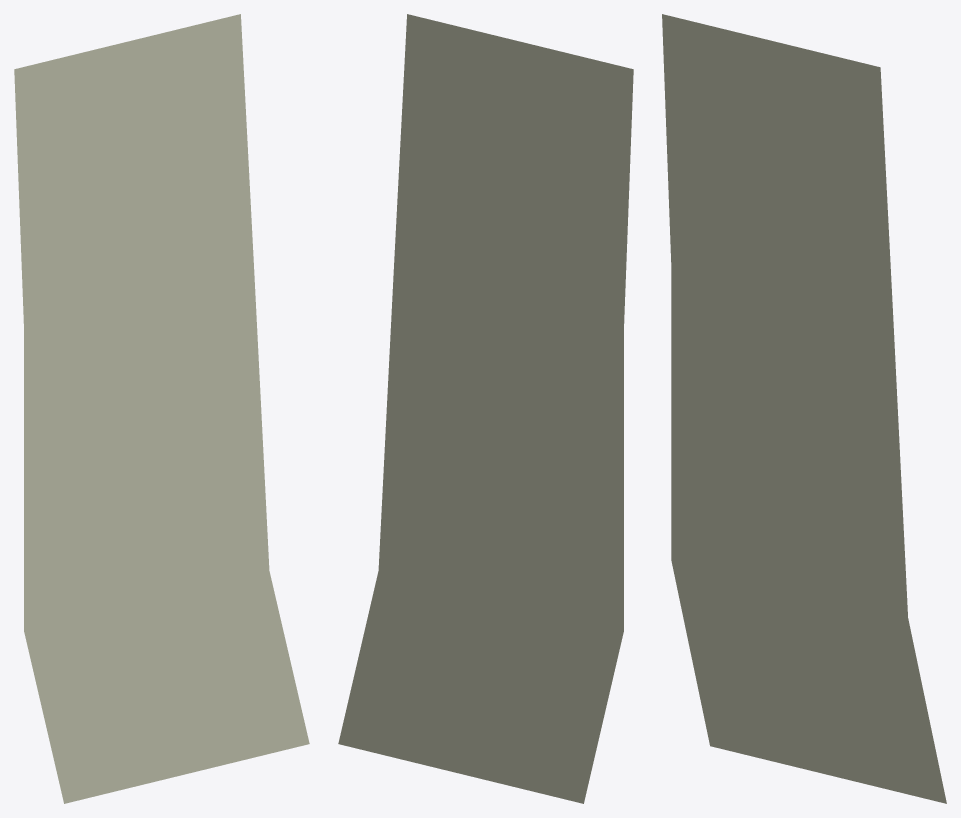
File: Asian_Prop_Paper_Charm_02.FBX
3 renders of one model, left to right at view 1: azimuth 30°, elevation 25°; view 2: azimuth 150°, elevation 25°; view 3: azimuth 330°, elevation 25°, orthographic. The views are drawn at different scales.
Visible parts, largest first — view 1: Asian_Prop_Paper_Charm_02; view 2: Asian_Prop_Paper_Charm_02; view 3: Asian_Prop_Paper_Charm_02.
Boxes of the visible parts, x1,y1,x2,y2 form: Asian_Prop_Paper_Charm_02: [14, 14, 309, 803]; Asian_Prop_Paper_Charm_02: [338, 14, 633, 803]; Asian_Prop_Paper_Charm_02: [662, 14, 946, 803].
Size of the model in its own units: 154 by 372 by 1.63e-05.
